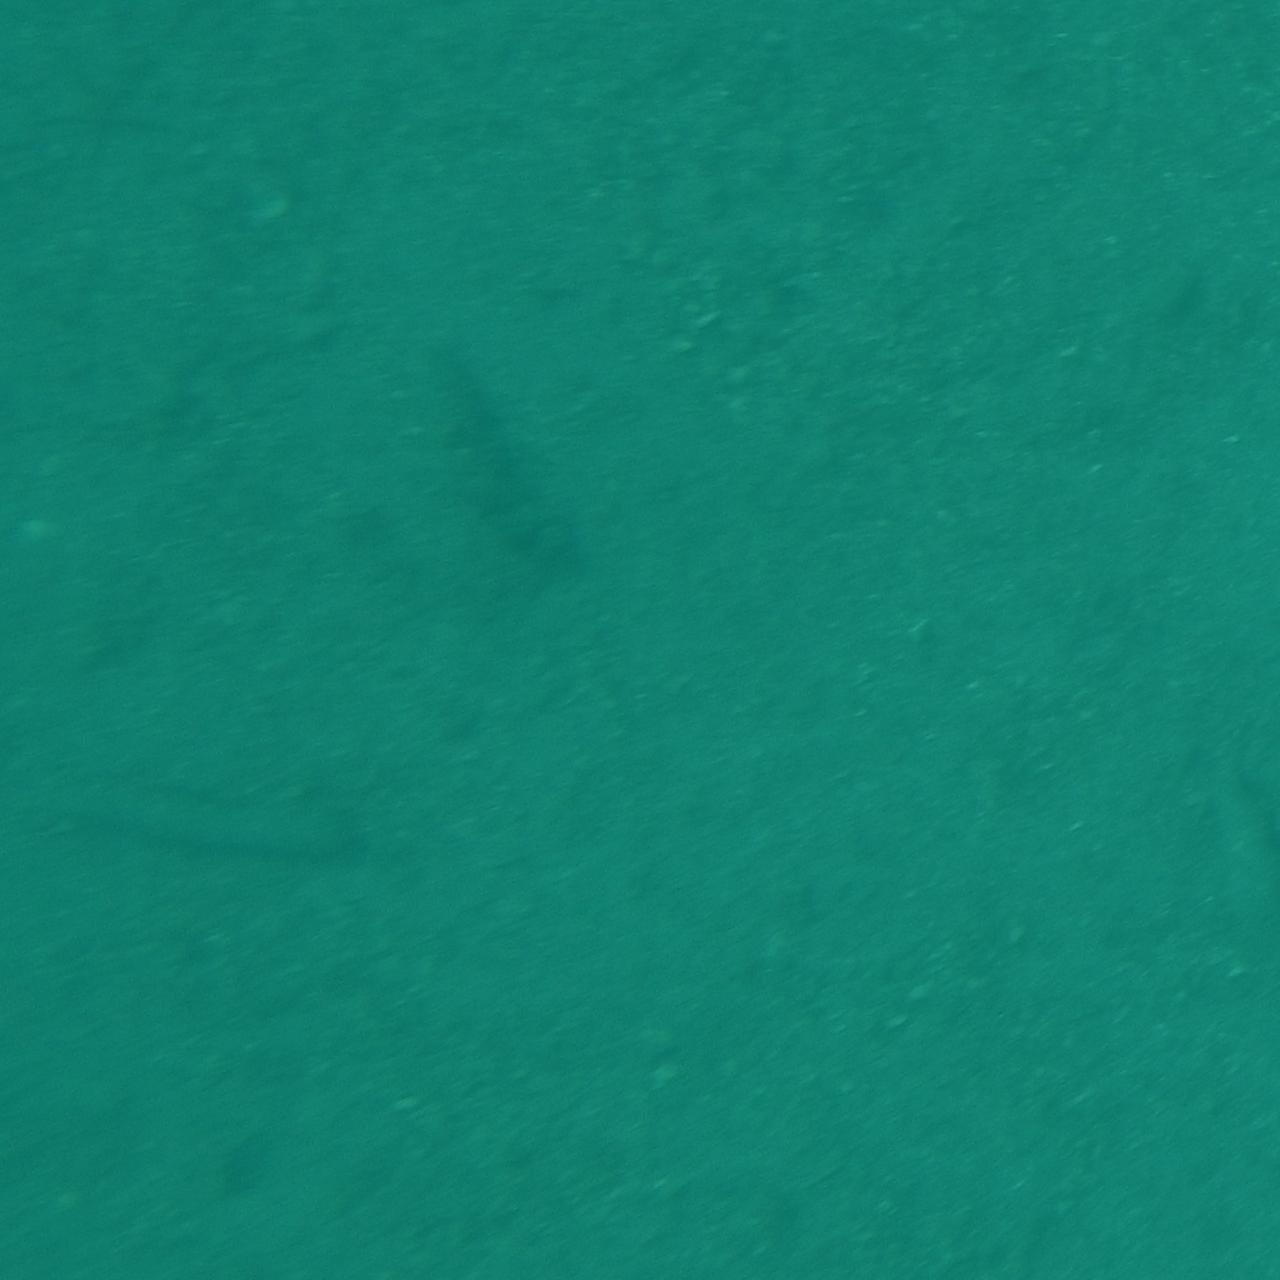Holothuria tubulosa: (384, 340, 597, 617), (19, 742, 387, 862)
